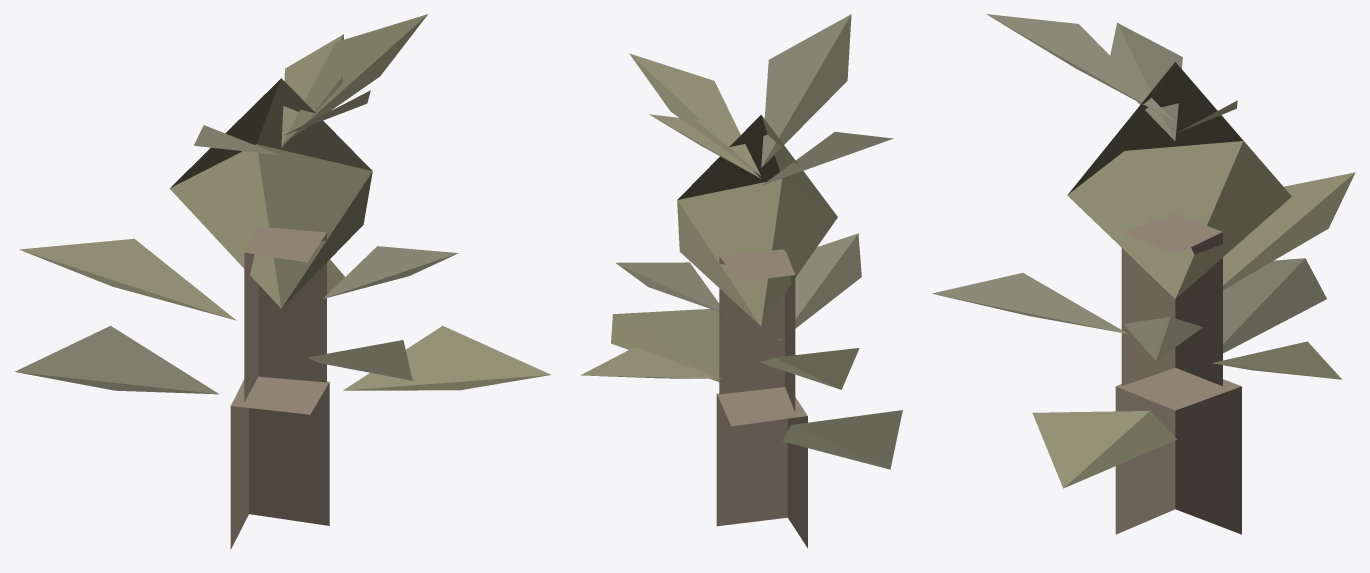
The model's file is cao.shamo@seedling__winter.glb.
3 views of the same model, side by side, from view 1: azimuth 30°, elevation 25°; view 2: azimuth 150°, elevation 25°; view 3: azimuth 270°, elevation 25° (orthographic). The views are drawn at different scales.
Parts seen in each view (by area): view 1: cao.shamo@seedling__winter; view 2: cao.shamo@seedling__winter; view 3: cao.shamo@seedling__winter.
Part boxes in pixels (box(x1,y1,x2,y2)): cao.shamo@seedling__winter: box(14, 14, 550, 549); cao.shamo@seedling__winter: box(581, 14, 902, 548); cao.shamo@seedling__winter: box(932, 14, 1355, 534).
Size of the model in its own units: 0.1237 by 0.1417 by 0.1053.
